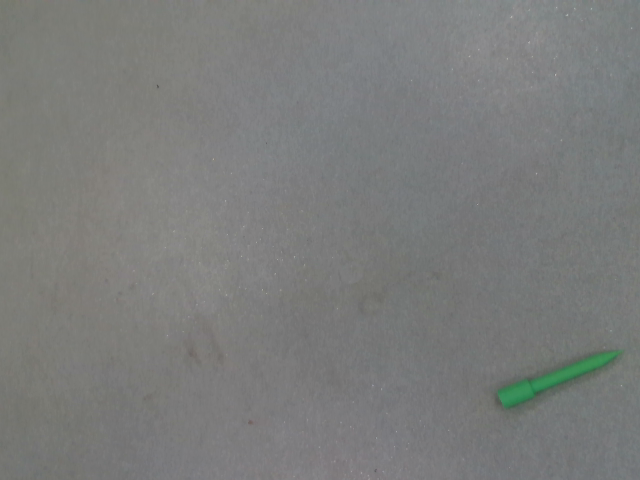Probe: (492, 343, 632, 414)
